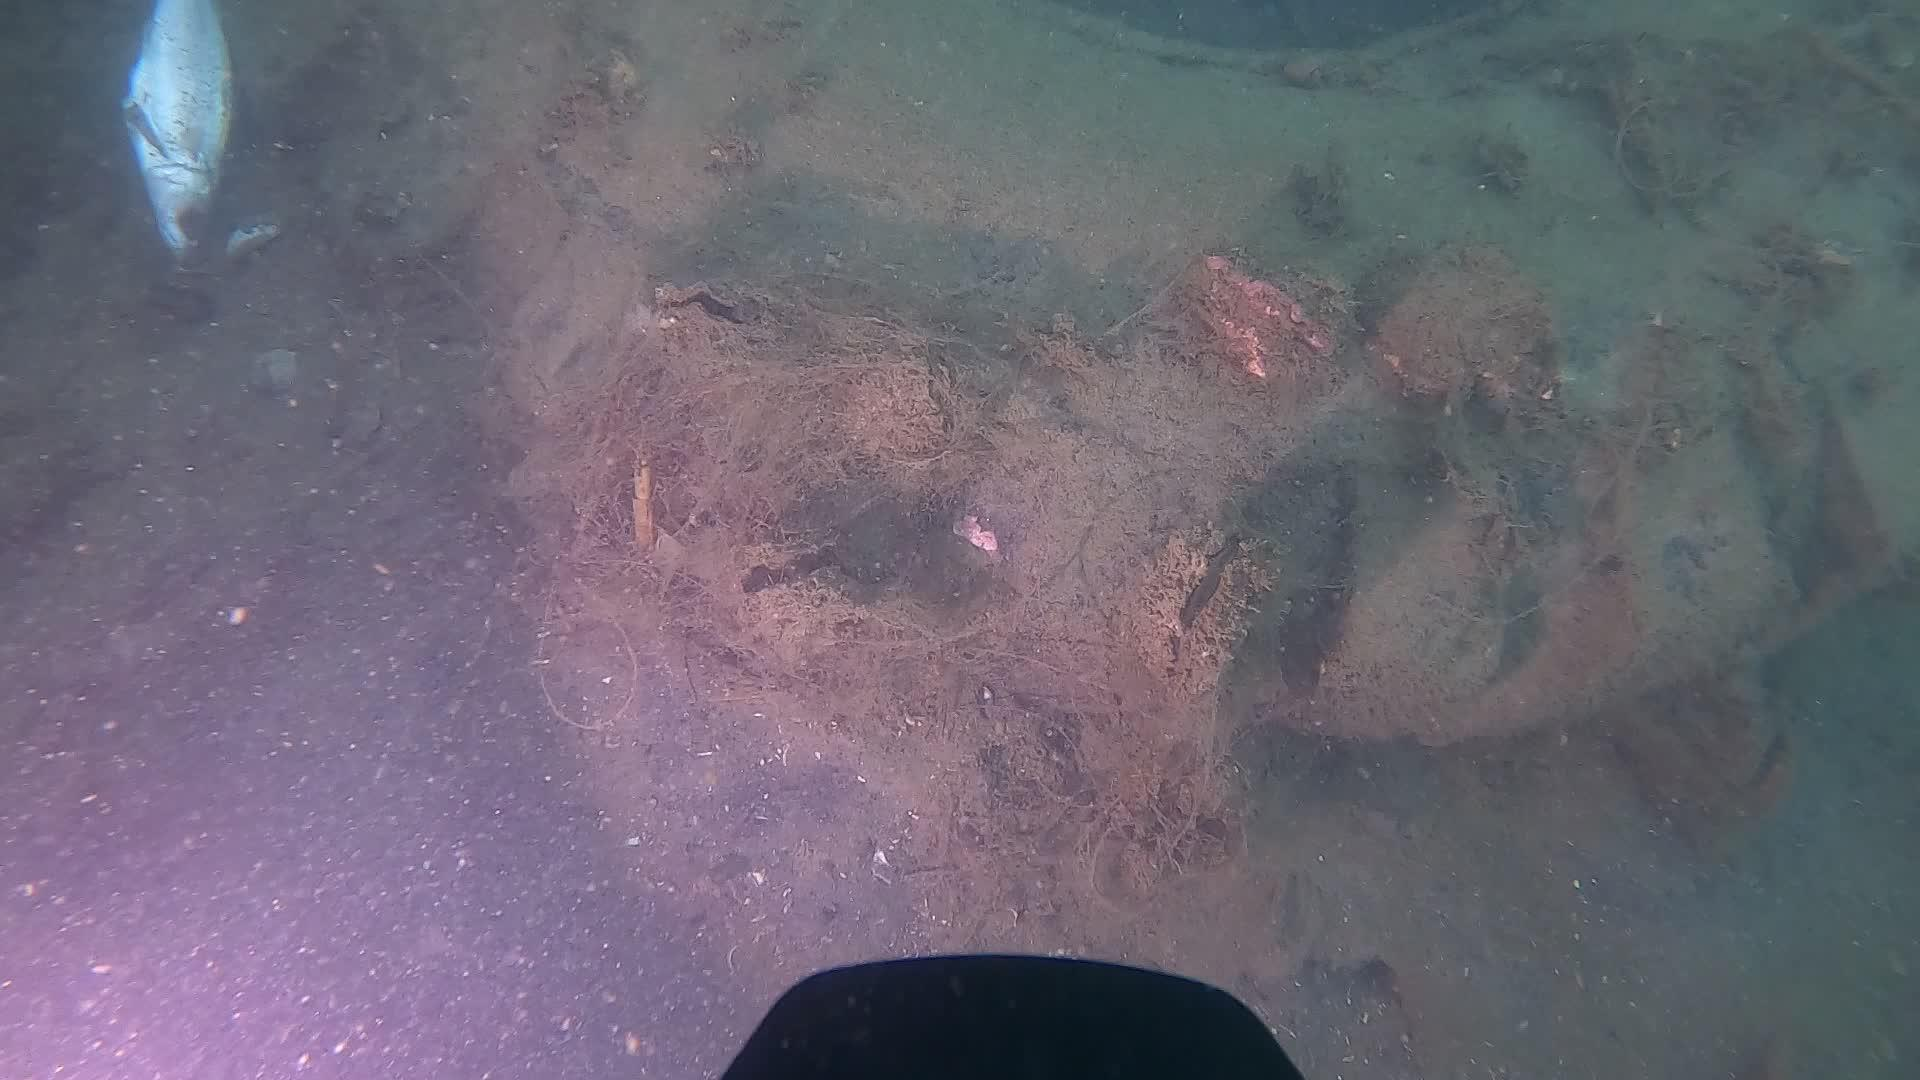tire: (438, 0, 1920, 749)
